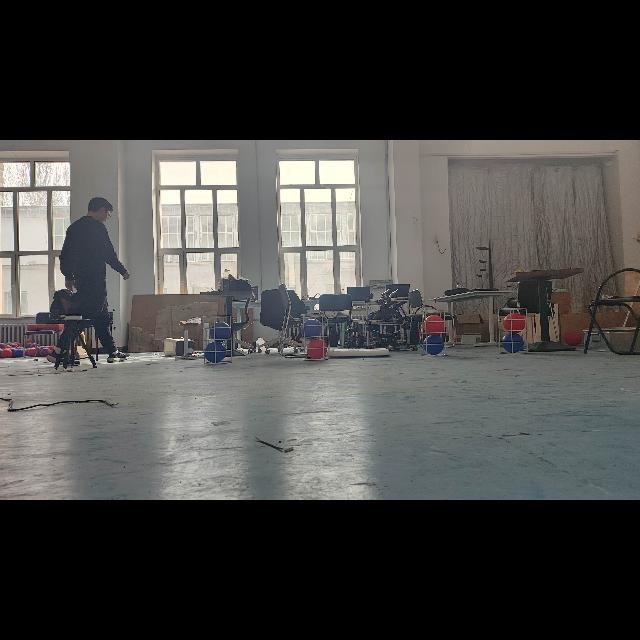B: (205, 341, 228, 363), (423, 334, 447, 354), (210, 322, 232, 342), (502, 333, 524, 353), (301, 319, 321, 339)
R: (504, 313, 526, 333), (424, 315, 446, 335), (307, 338, 327, 358)
S: (494, 306, 530, 358), (200, 314, 234, 368), (297, 311, 331, 364), (418, 308, 454, 358)
